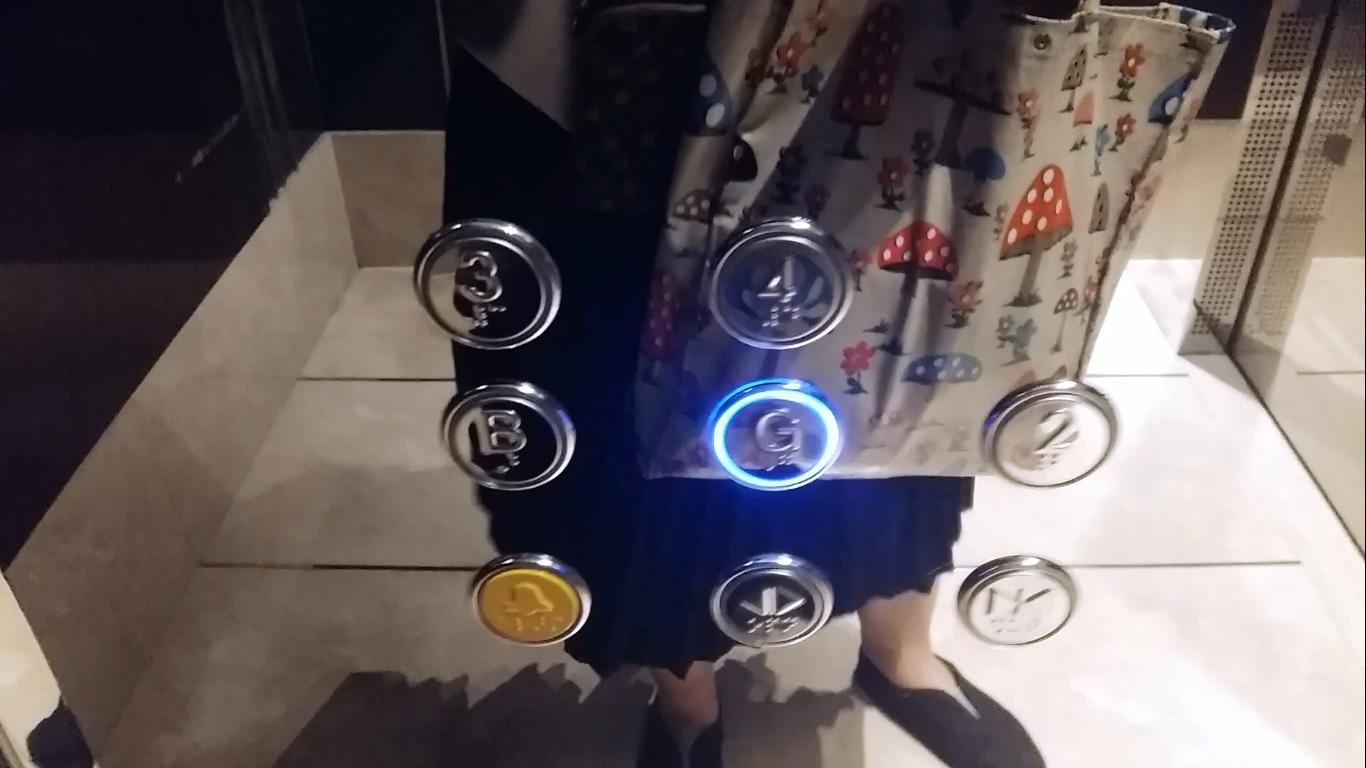2: (979, 371, 1122, 497)
3: (409, 212, 566, 358)
4: (701, 209, 858, 355)
B: (436, 373, 579, 499)
G: (702, 371, 845, 497)
alarm: (463, 544, 601, 651)
close: (954, 552, 1079, 651)
open: (699, 546, 837, 653)
